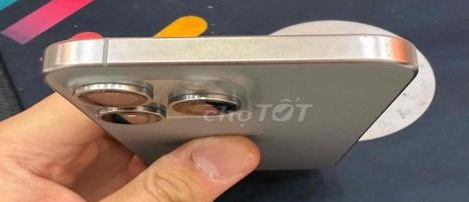scratch: (356, 29, 370, 40)
